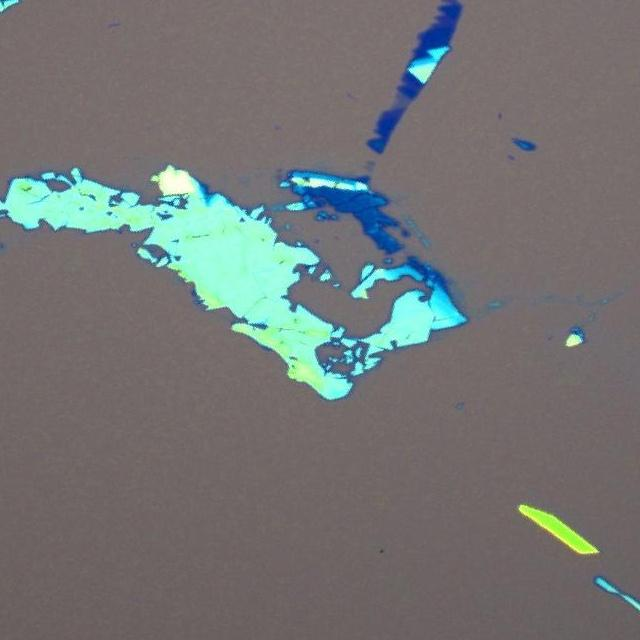monolayer-eWW4: (392, 91, 411, 110)
